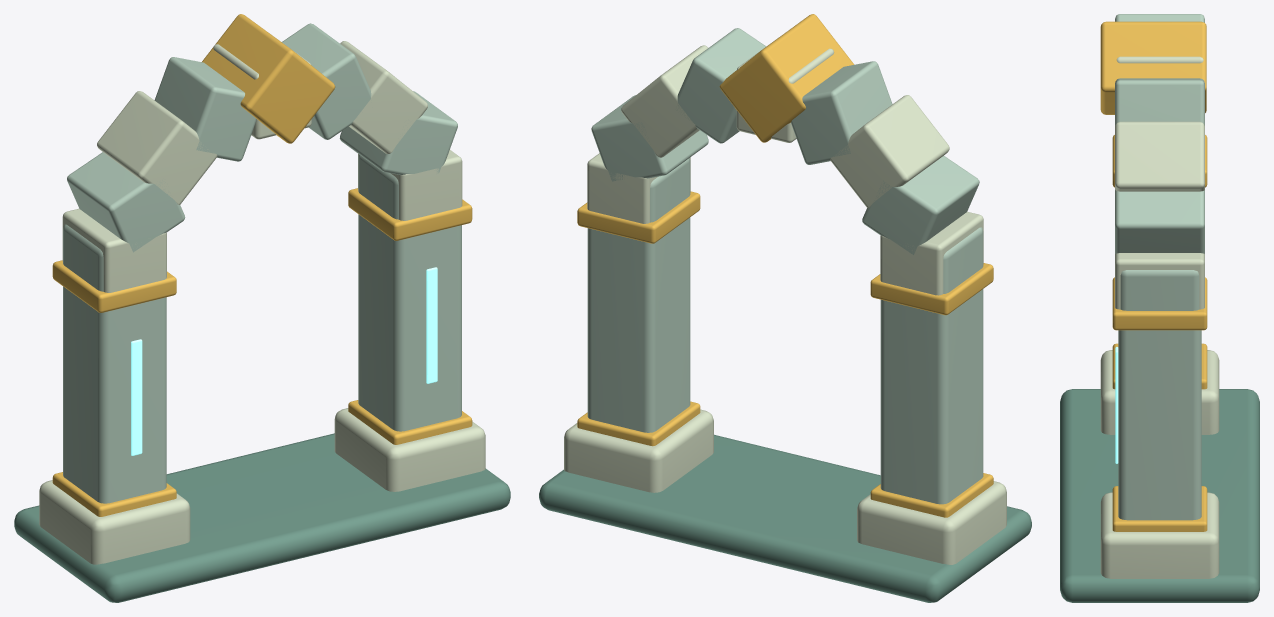
Rendered from portal.glb.
3 renders of one model, left to right at view 1: azimuth 30°, elevation 25°; view 2: azimuth 150°, elevation 25°; view 3: azimuth 270°, elevation 25°, orthographic.
Parts seen in each view (by area): view 1: Step, Pillar, Pillar.001, Keystone, Foot, Foot.001, ArchStone.006, ArchStone.007, ArchStone.005, ArchStone.003, ArchStone.002, ArchStone.001 (+9 smaller); view 2: Step, Pillar, Pillar.001, Keystone, Foot, Foot.001, ArchStone.006, ArchStone.007, ArchStone.005, ArchStone.003, ArchStone.001, ArchStone.002 (+7 smaller); view 3: Step, Pillar.001, Foot.001, ArchStone.002, Keystone, ArchStone.001, ArchStone.003, Foot, Band.003, ArchStone, Band.002, ArchStone.005 (+4 smaller).
Boxes of the visible parts, left/top/right/bottom form: Step: left=14, top=433, right=510, bottom=602; Pillar: left=63, top=224, right=166, bottom=503; Pillar.001: left=358, top=154, right=461, bottom=431; Keystone: left=202, top=14, right=335, bottom=143; Foot: left=39, top=480, right=190, bottom=564; Foot.001: left=334, top=408, right=485, bottom=491; ArchStone.006: left=97, top=91, right=217, bottom=204; ArchStone.007: left=67, top=152, right=185, bottom=252; ArchStone.005: left=154, top=57, right=256, bottom=161; ArchStone.003: left=282, top=23, right=371, bottom=139; ArchStone.002: left=340, top=41, right=427, bottom=153; ArchStone.001: left=339, top=91, right=457, bottom=175; Step: left=539, top=434, right=1031, bottom=602; Pillar: left=880, top=227, right=983, bottom=504; Pillar.001: left=587, top=158, right=690, bottom=432; Keystone: left=719, top=14, right=853, bottom=142; Foot: left=857, top=481, right=1006, bottom=564; Foot.001: left=564, top=409, right=713, bottom=492; ArchStone.006: left=830, top=95, right=949, bottom=207; ArchStone.007: left=862, top=156, right=979, bottom=254; ArchStone.005: left=791, top=61, right=892, bottom=164; ArchStone.003: left=676, top=28, right=766, bottom=143; ArchStone.001: left=591, top=95, right=708, bottom=181; ArchStone.002: left=621, top=45, right=707, bottom=157; Step: left=1060, top=389, right=1259, bottom=602; Pillar.001: left=1118, top=270, right=1201, bottom=520; Foot.001: left=1100, top=492, right=1219, bottom=578; ArchStone.002: left=1115, top=121, right=1204, bottom=191; Keystone: left=1100, top=21, right=1206, bottom=114; ArchStone.001: left=1115, top=190, right=1204, bottom=253; ArchStone.003: left=1115, top=78, right=1204, bottom=125; Foot: left=1100, top=350, right=1219, bottom=434; Band.003: left=1112, top=277, right=1207, bottom=330; ArchStone: left=1115, top=253, right=1204, bottom=309; Band.002: left=1112, top=486, right=1207, bottom=531; ArchStone.005: left=1115, top=14, right=1204, bottom=22.
Size of the model in its own units: 3.7 by 4.31 by 1.6.
